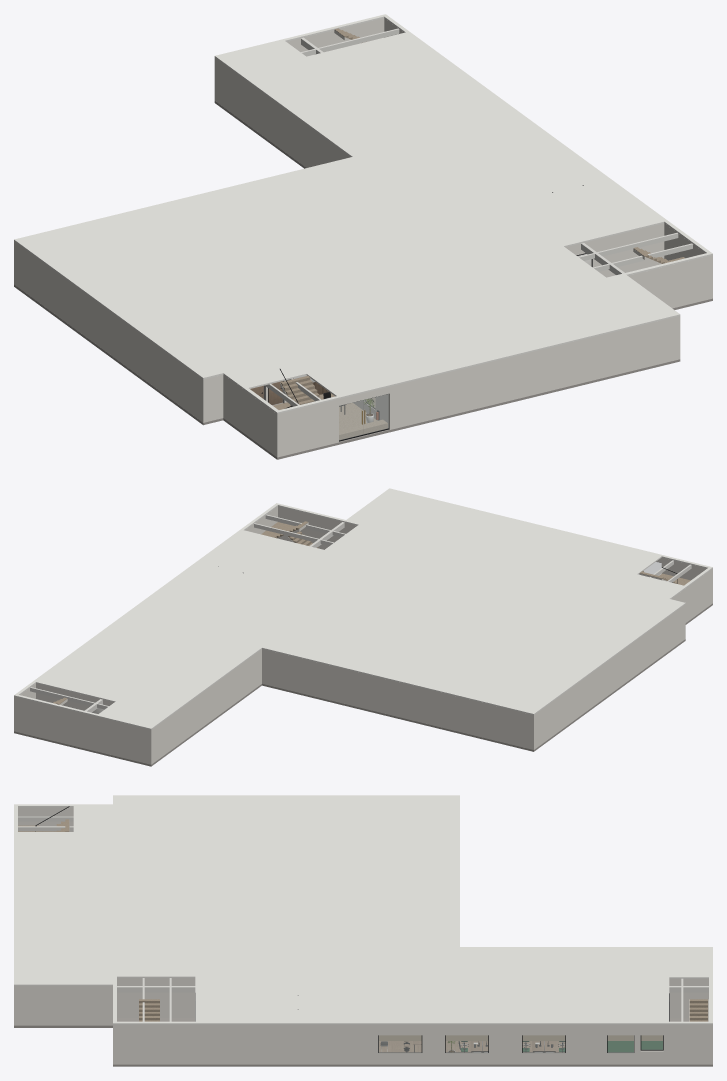
Rendered from Final_Office_Interior_web.glb.
The picture shows the model from 3 angles, top to bottom: view 1: azimuth 30°, elevation 25°; view 2: azimuth 150°, elevation 25°; view 3: azimuth 270°, elevation 25°; orthographic projection. The views are drawn at different scales.
Visible parts, largest first — view 1: Steel deck / slab above (soffit painted), EW01 Front facade with main gate, EW06 Washroom row west wall, EW08 Room 8 west wall, north part, EW04 South wall of the east stair, EW02 Room 1 west wall, Floor slab (existing, finished floor = 0), EW07 Room 2 west wall, IW14 South-east stair, north wall, D01 door (glass2) Main gate 140", EW09 Room 8 north wall, EW10 Room 8 east wall (+2 smaller); view 2: Steel deck / slab above (soffit painted), EW05 Middle block north wall, EW09 Room 8 north wall, EW06 Washroom row west wall, EW08 Room 8 west wall, north part, Floor slab (existing, finished floor = 0), EW07 Room 2 west wall, EW02 Room 1 west wall, EW04 South wall of the east stair, IW10 North-east stair, south wall, EW10 Room 8 east wall, EW01 Front facade with main gate; view 3: Steel deck / slab above (soffit painted), EW10 Room 8 east wall, EW03 Room 4 east wall, Floor slab (existing, finished floor = 0), IW15 South-east stair, west wall, IW11 North-east stair, west wall, BM003 Room 8 main beam, EW02 Room 1 west wall, Z18 GLOBAL DESIGN STUDIO - floor finish, W10 glass, W08 glass, W09 glass (+4 smaller).
Boxes of the visible parts, box(x1,y1,x2,y2) form: Steel deck / slab above (soffit painted): box(14, 14, 712, 413); EW01 Front facade with main gate: box(277, 316, 680, 457); EW06 Washroom row west wall: box(16, 243, 154, 386); EW08 Room 8 west wall, north part: box(214, 57, 350, 167); EW04 South wall of the east stair: box(628, 256, 709, 308); EW02 Room 1 west wall: box(223, 375, 277, 457); Floor slab (existing, finished floor = 0): box(14, 101, 712, 459); EW07 Room 2 west wall: box(154, 344, 206, 422); IW14 South-east stair, north wall: box(565, 223, 664, 277); D01 door (glass2) Main gate 140": box(339, 394, 388, 441); EW09 Room 8 north wall: box(287, 18, 384, 56); EW10 Room 8 east wall: box(384, 18, 712, 299); Steel deck / slab above (soffit painted): box(14, 488, 712, 729); EW05 Middle block north wall: box(262, 649, 535, 749); EW09 Room 8 north wall: box(17, 697, 148, 763); EW06 Washroom row west wall: box(531, 633, 646, 749); EW08 Room 8 west wall, north part: box(148, 649, 261, 764); Floor slab (existing, finished floor = 0): box(14, 603, 712, 766); EW07 Room 2 west wall: box(646, 604, 685, 666); EW02 Room 1 west wall: box(671, 568, 712, 622); EW04 South wall of the east stair: box(278, 506, 344, 549); IW10 North-east stair, south wall: box(36, 683, 113, 712); EW10 Room 8 east wall: box(14, 506, 277, 731); EW01 Front facade with main gate: box(656, 557, 706, 580); Steel deck / slab above (soffit painted): box(14, 795, 712, 1024); EW10 Room 8 east wall: box(113, 1024, 712, 1064); EW03 Room 4 east wall: box(14, 986, 112, 1025); Floor slab (existing, finished floor = 0): box(14, 1018, 712, 1066); IW15 South-east stair, west wall: box(117, 978, 195, 1017); IW11 North-east stair, west wall: box(669, 978, 708, 1018); BM003 Room 8 main beam: box(117, 986, 708, 992); EW02 Room 1 west wall: box(18, 807, 73, 831); Z18 GLOBAL DESIGN STUDIO - floor finish: box(379, 1041, 565, 1052); W10 glass: box(379, 1035, 421, 1052); W08 glass: box(523, 1035, 564, 1052); W09 glass: box(446, 1035, 487, 1052).
Size of the model in its own units: 35.59 by 4.19 by 46.1.
79 materials, 36 textured.
